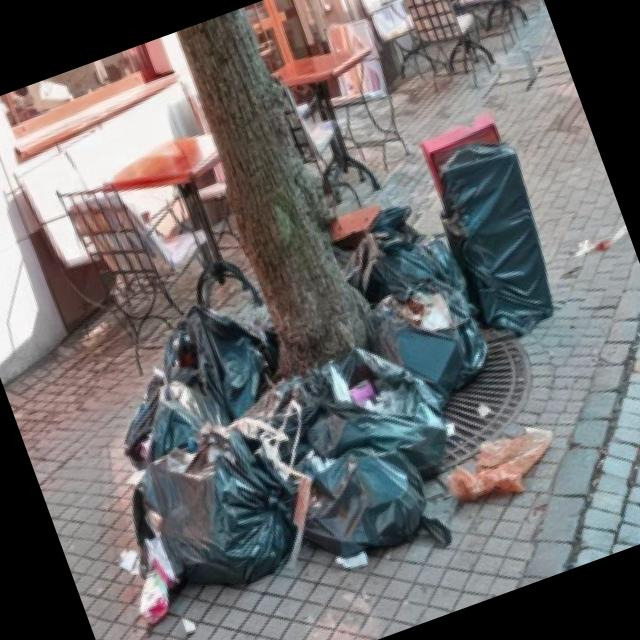high trash: (126, 116, 553, 586)
less trash: (447, 428, 551, 501)
